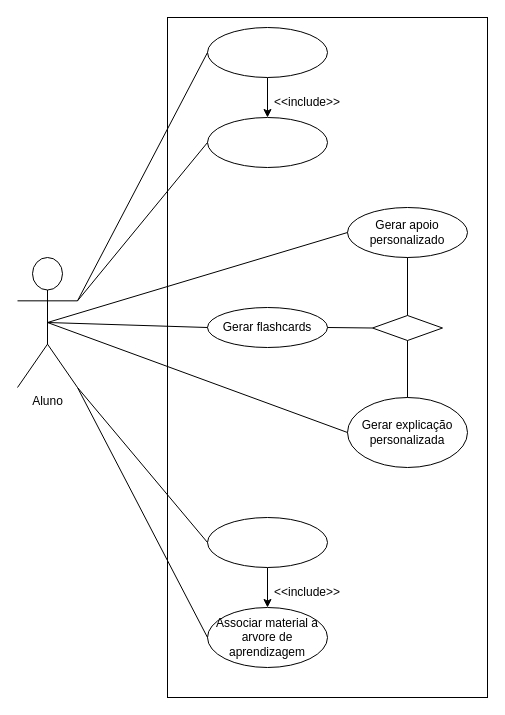
Image size: 505x715. Some labels were removed from this diagram. Here are the shapes that lost their labels. From the top down, the centre of each, then its label:
the point at 267,52: Conversar com assistente de IA
the point at 267,142: Consultar acervo de referencias
the point at 267,542: Consultar catálogo de matérias
